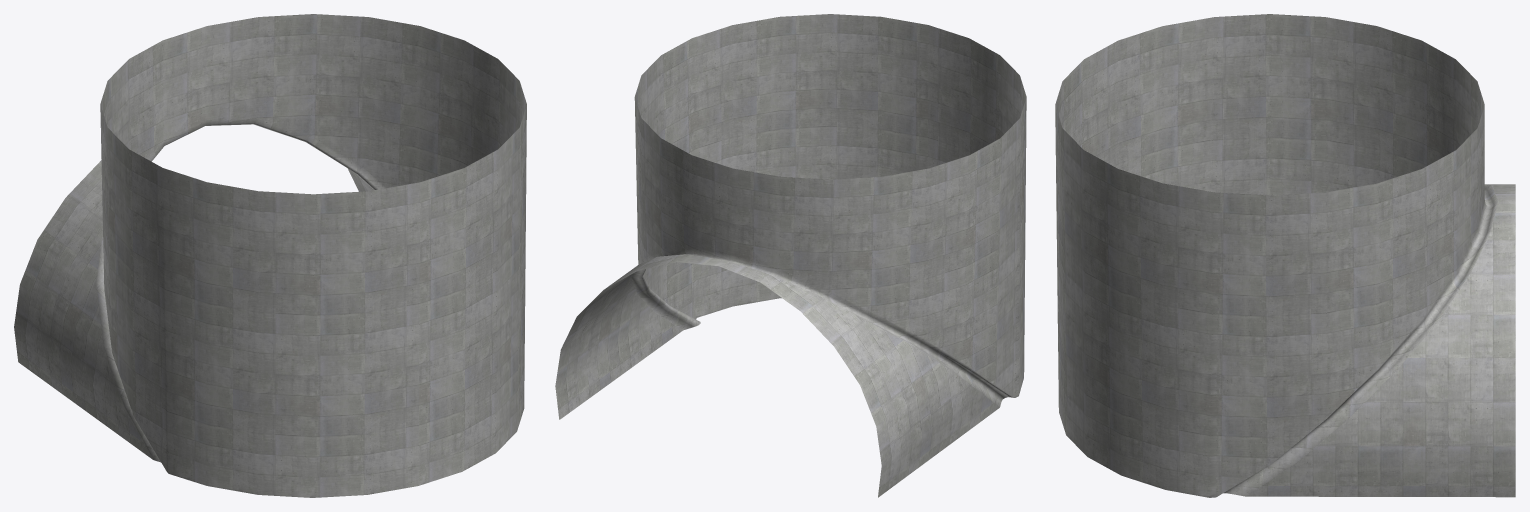
The model's file is Tunnel_Lift_End.fbx.
3 views of the same model, side by side, from view 1: azimuth 30°, elevation 25°; view 2: azimuth 150°, elevation 25°; view 3: azimuth 270°, elevation 25° (orthographic). The views are drawn at different scales.
Parts seen in each view (by area): view 1: Tunnel_Lift_End; view 2: Tunnel_Lift_End; view 3: Tunnel_Lift_End.
Boxes of the visible parts, box(x1,y1,x2,y2) form: Tunnel_Lift_End: box(14, 14, 526, 497); Tunnel_Lift_End: box(555, 14, 1026, 497); Tunnel_Lift_End: box(1055, 14, 1515, 497).
Size of the model in its own units: 1271 by 1003 by 1363.
1 material, 1 textured.
